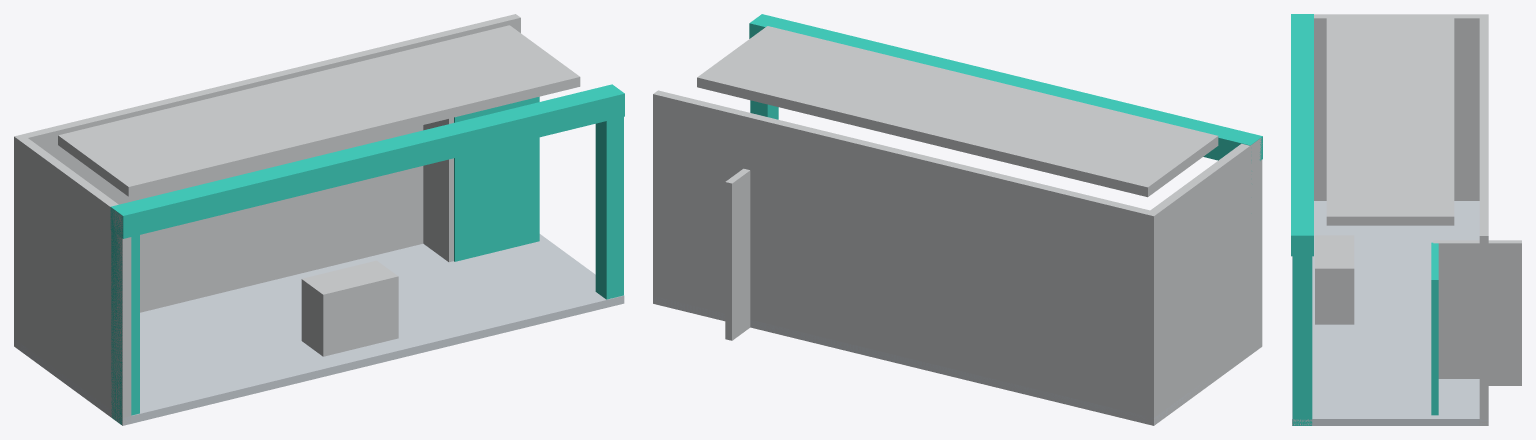
3 views of the same model, side by side, from view 1: azimuth 30°, elevation 25°; view 2: azimuth 150°, elevation 25°; view 3: azimuth 270°, elevation 25° (orthographic). The views are drawn at different scales.
Parts seen in each view (by area): view 1: Exhibition Booth Concept; view 2: Exhibition Booth Concept; view 3: Exhibition Booth Concept.
Part boxes in pixels (x1,y1,x2,y2): Exhibition Booth Concept: (14,14,624,425); Exhibition Booth Concept: (653,14,1262,425); Exhibition Booth Concept: (1291,14,1521,425).
Bounding box in the file's own units: 8 × 3.34 × 3.52.
